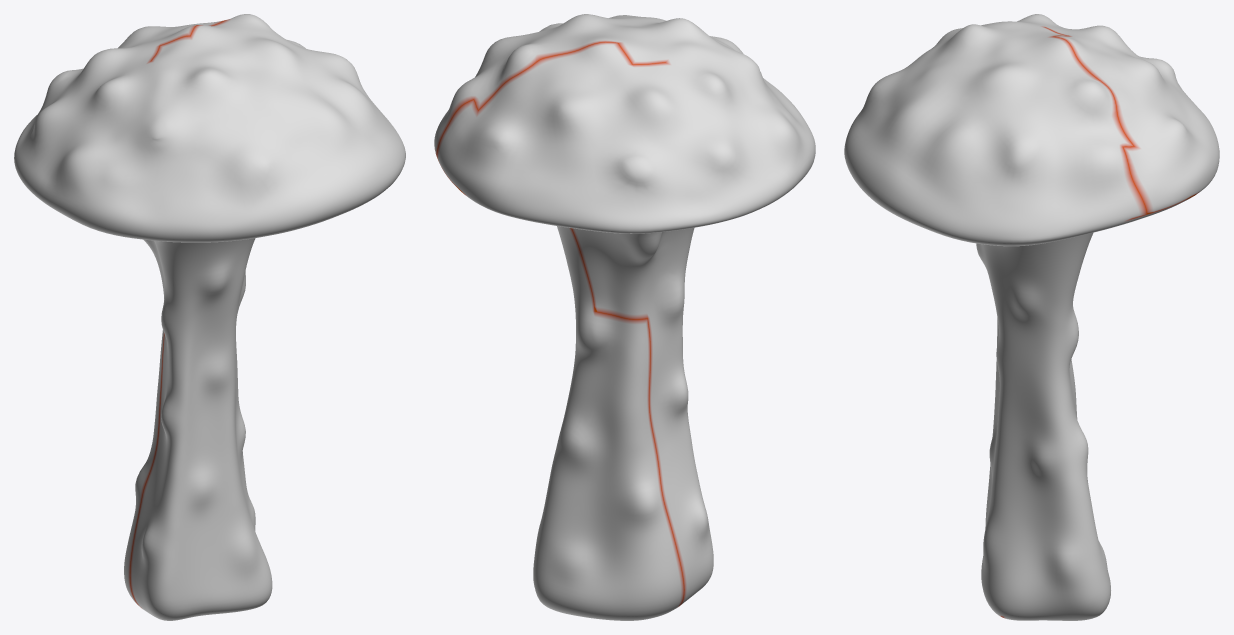
Rendered from mushroom2.fbx.
The picture shows the model from 3 angles, left to right: view 1: azimuth 30°, elevation 25°; view 2: azimuth 150°, elevation 25°; view 3: azimuth 270°, elevation 25°; orthographic projection.
Visible parts, largest first — view 1: polySurface2; view 2: polySurface2; view 3: polySurface2.
Boxes of the visible parts, bbox=[...] form: polySurface2: bbox=[14, 14, 405, 620]; polySurface2: bbox=[434, 14, 815, 620]; polySurface2: bbox=[844, 14, 1219, 620].
Bounding box in the file's own units: 84.91 × 137 × 82.46.
